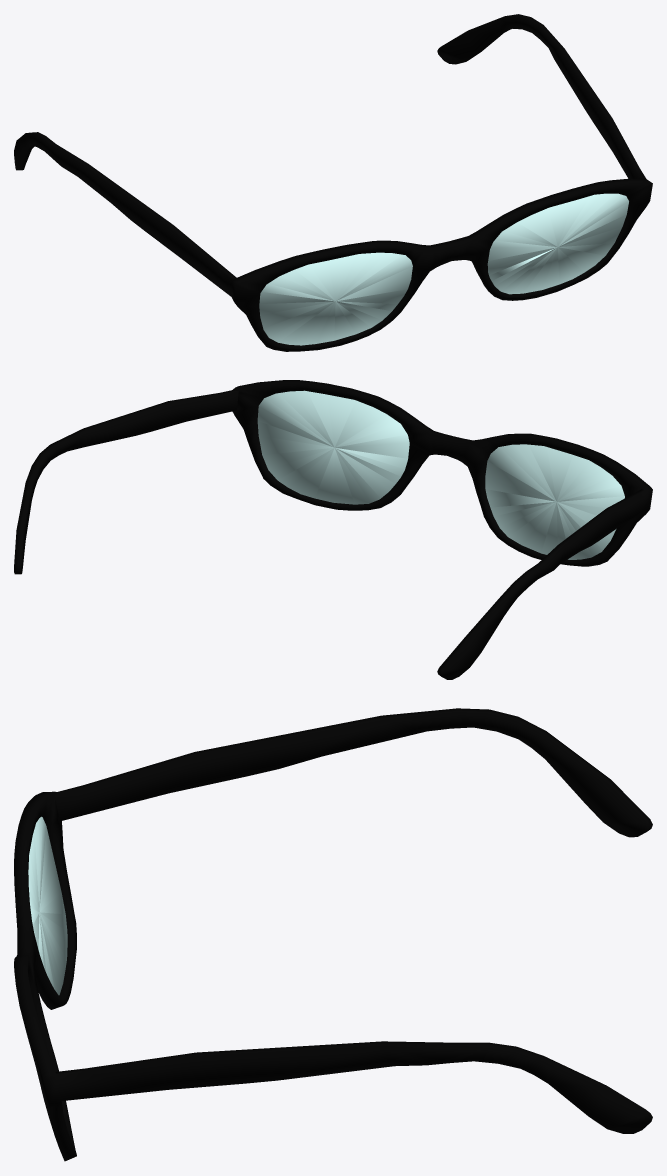
File: Glasses.fbx
The picture shows the model from 3 angles, top to bottom: view 1: azimuth 30°, elevation 25°; view 2: azimuth 150°, elevation 25°; view 3: azimuth 270°, elevation 25°; orthographic projection. The views are drawn at different scales.
Visible parts, largest first — view 1: Black_mesh; view 2: Black_mesh; view 3: Black_mesh.
Boxes of the visible parts, x1,y1,x2,y2 form: Black_mesh: (14, 14, 652, 351); Black_mesh: (14, 380, 652, 679); Black_mesh: (14, 708, 652, 1161).
Size of the model in its own units: 197 by 50.53 by 157.
